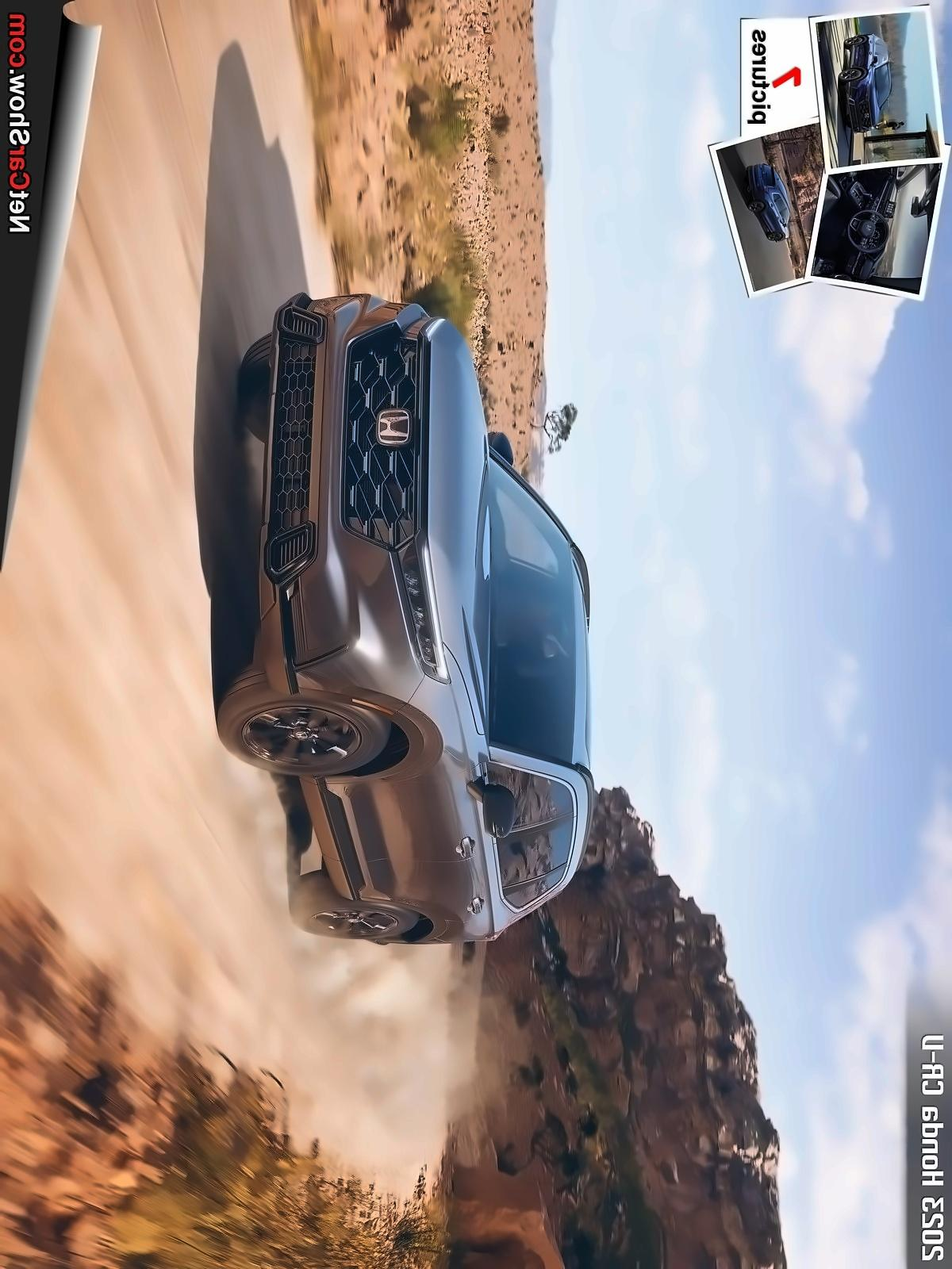Car hood: (424, 308, 491, 740)
Fender - -F-L-: (302, 640, 490, 788)
Front bumper: (250, 290, 427, 720)
Headlight - -L-: (393, 529, 450, 689)
Passenger-s door - -F-L-: (292, 755, 604, 861)
Passenger-s door - -R-L-: (311, 817, 597, 917)
Side bumper - -L-: (297, 773, 391, 912)
Side mirror - -L-: (465, 777, 522, 838)
